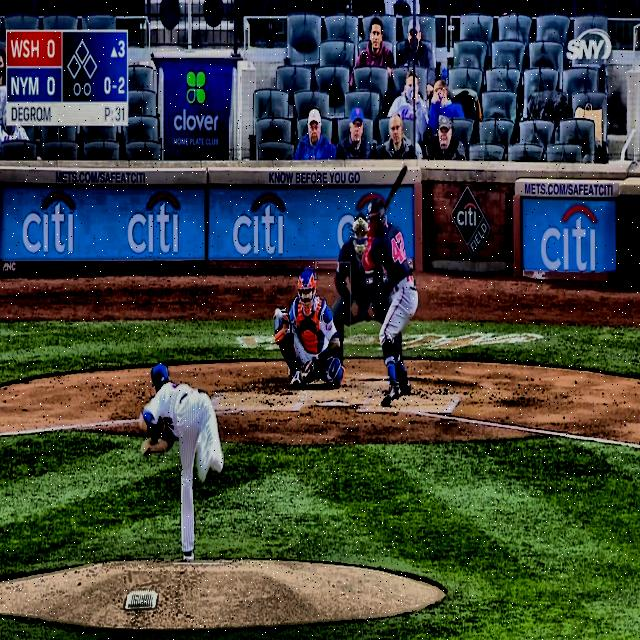baseball: (275, 308, 282, 319)
